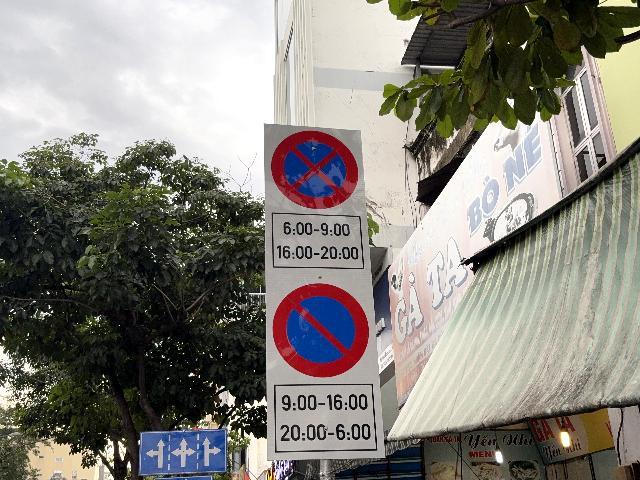cam-do-xe: (274, 283, 368, 377)
cam-dung-va-do-xe: (271, 130, 358, 208)
